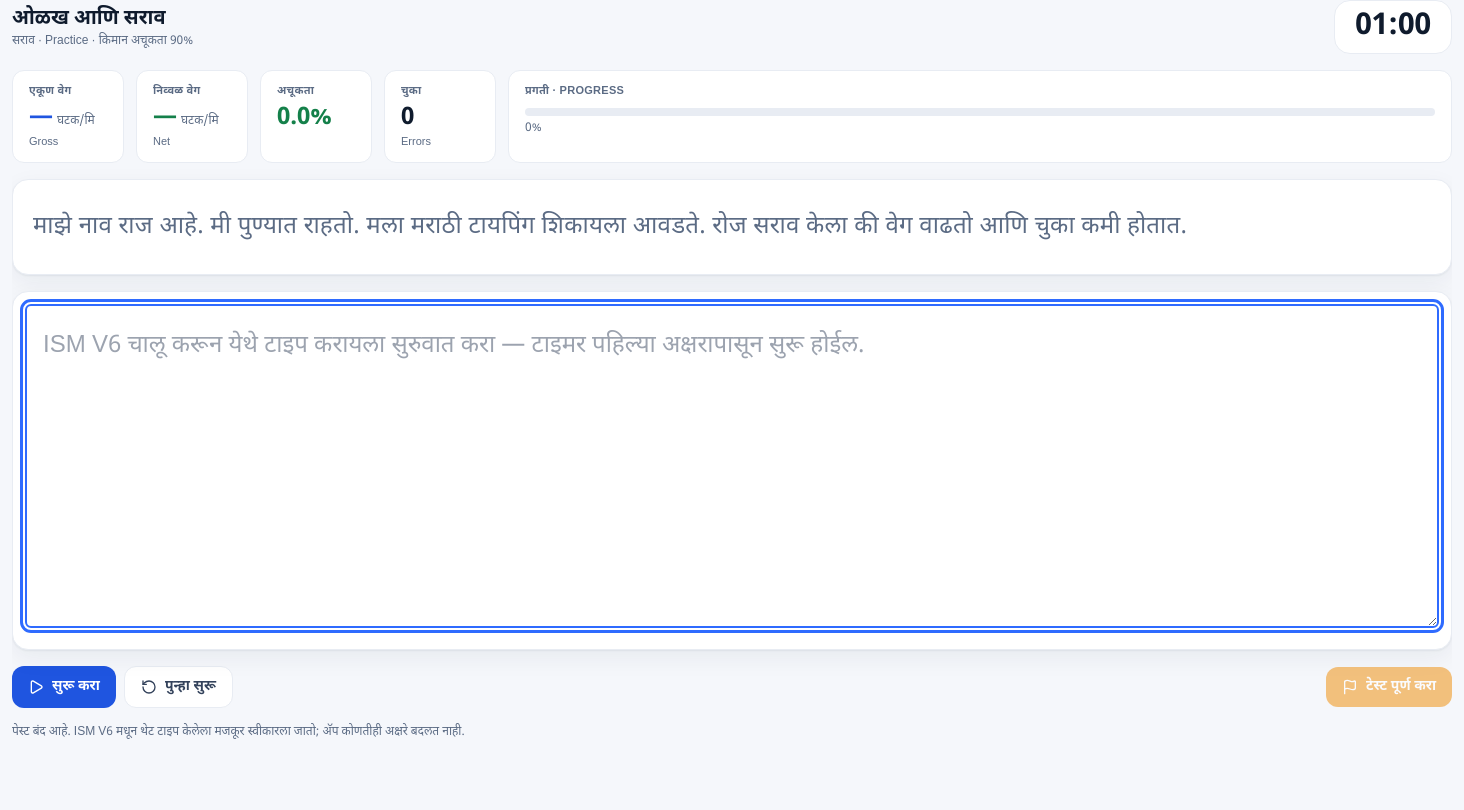
Test case: typing workspace › a poor attempt fails and explains every reason in Marathi
Step 1. Replace the text in the text box with test id "typing-area" with "चुकीचा मजकूर पूर्ण वेगळा" → [732, 466], box [25, 304, 1439, 628]
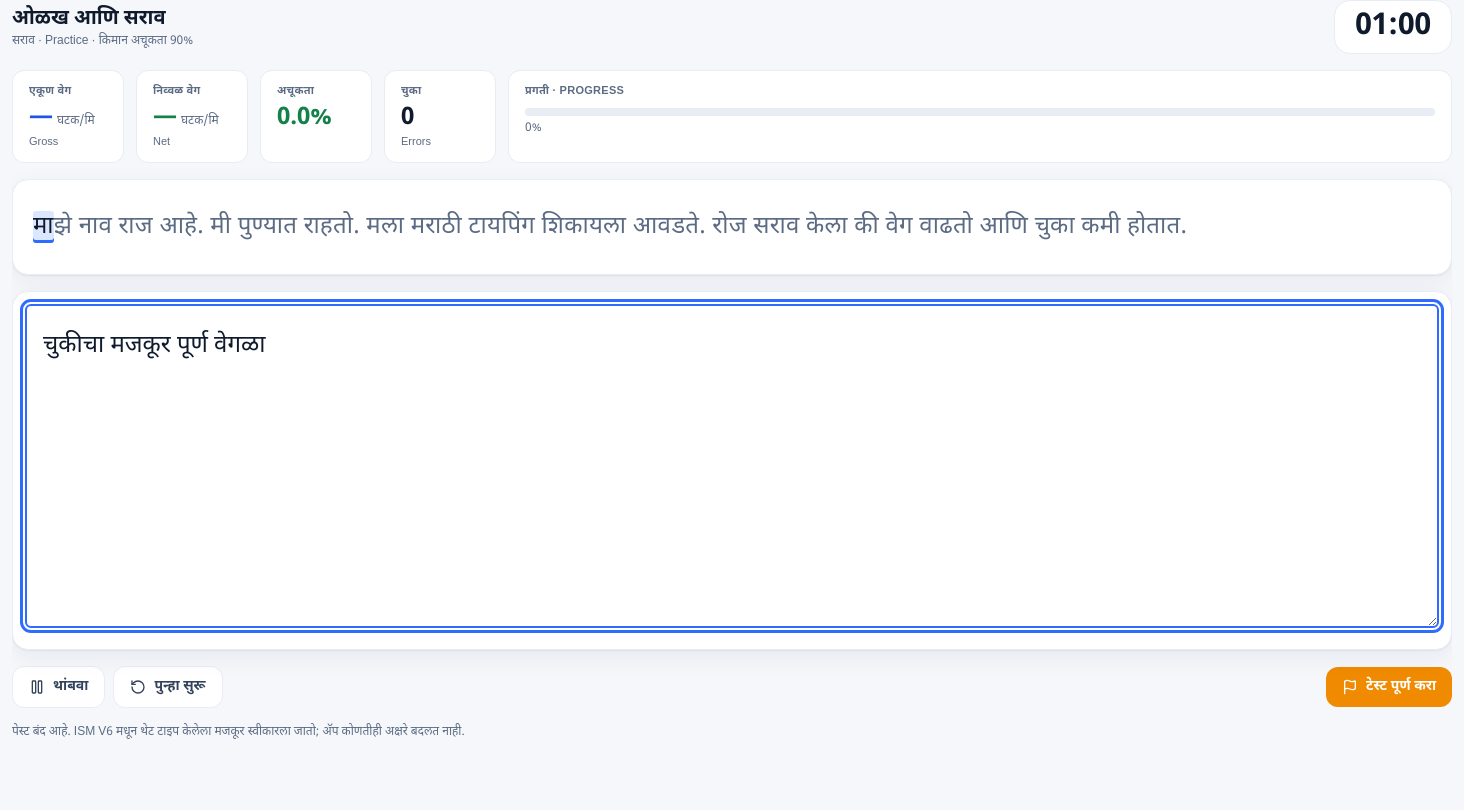
Step 2. Click the button with test id "finish" → [1389, 687], box [1326, 667, 1452, 707]
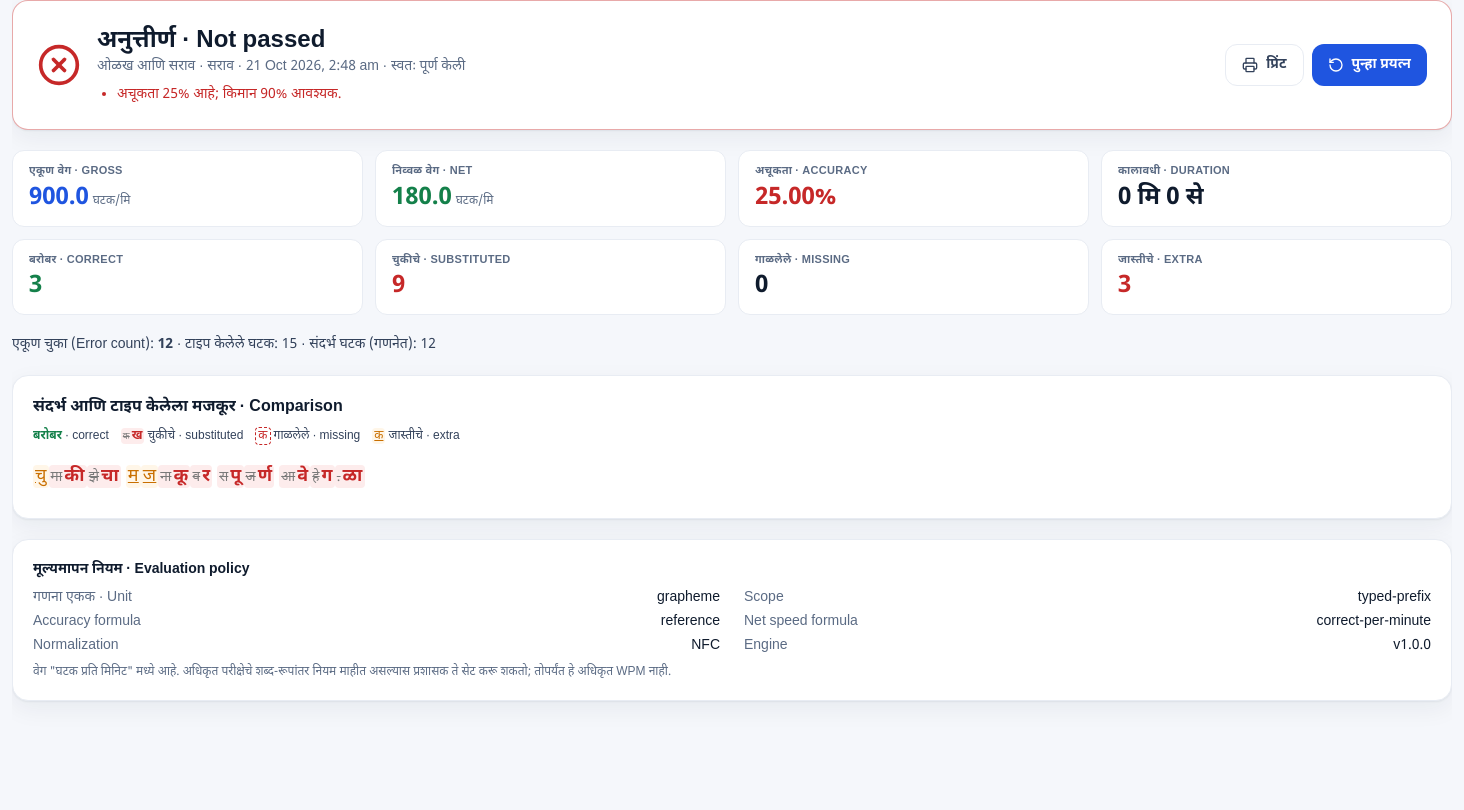
Check: the heading "अनुत्तीर्ण · Not passed" is shown, box [97, 25, 325, 57]
Check: the list item "अचूकता 25% आहे; किमान 90% आवश्यक." is shown, box [117, 85, 341, 104]
